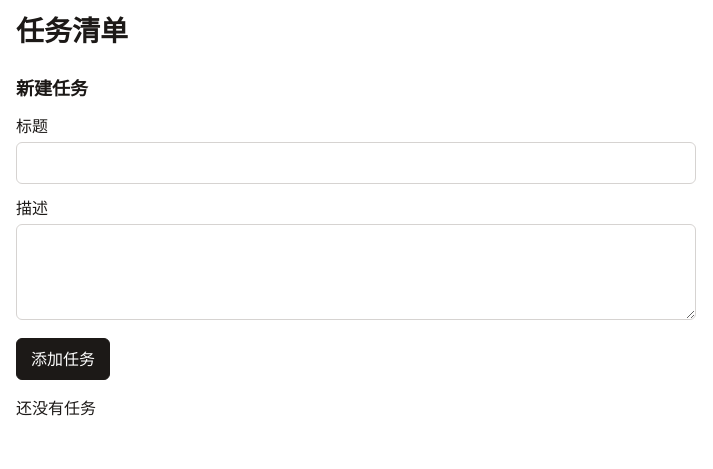
it: does not submit a blank title
This screenshot has width=713, height=469.
Expected: the text "还没有任务" is shown, [16,397,96,419]
What coordinates should you click on to do the following:
click the button with test id "task-submit"
I would click on:
 (63, 359)
Its box is [16,338,110,380].
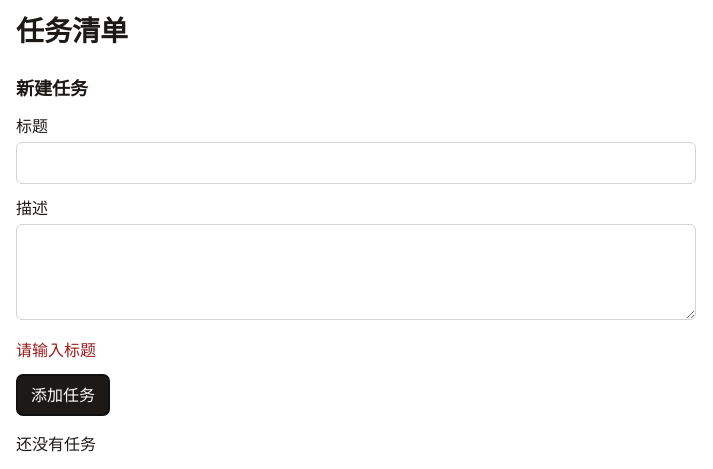
Expected: the text "请输入标题" is shown, [16,339,96,361]
